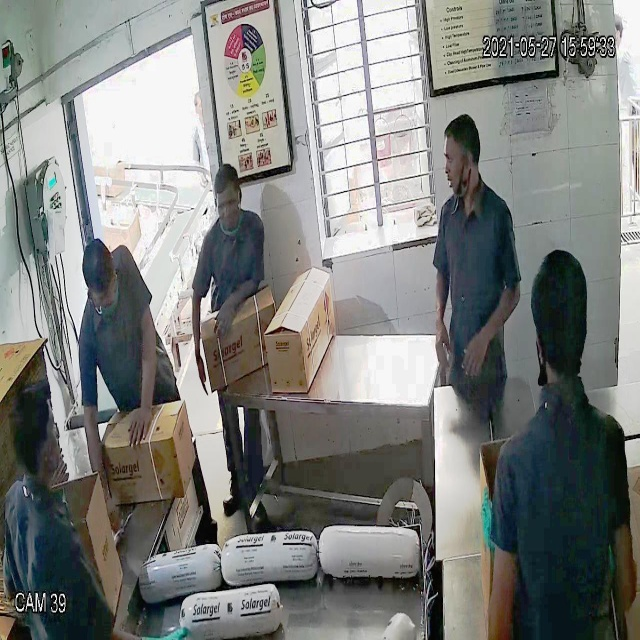Sin_gafas: (438, 142, 477, 173)
